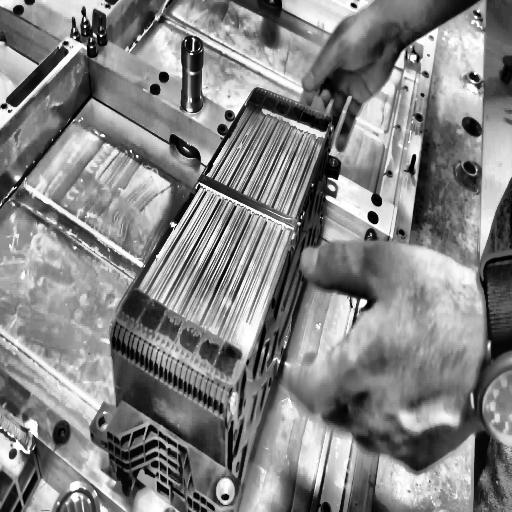battery_module: (108, 87, 331, 512)
